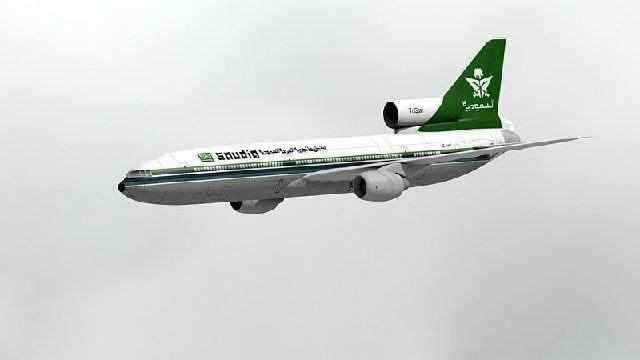airplane: (115, 36, 592, 220)
